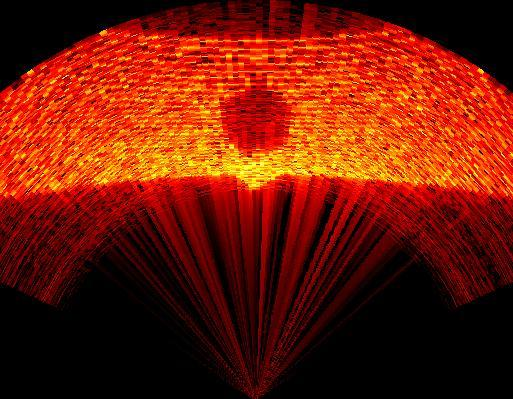box_crate: (220, 80, 292, 157)
